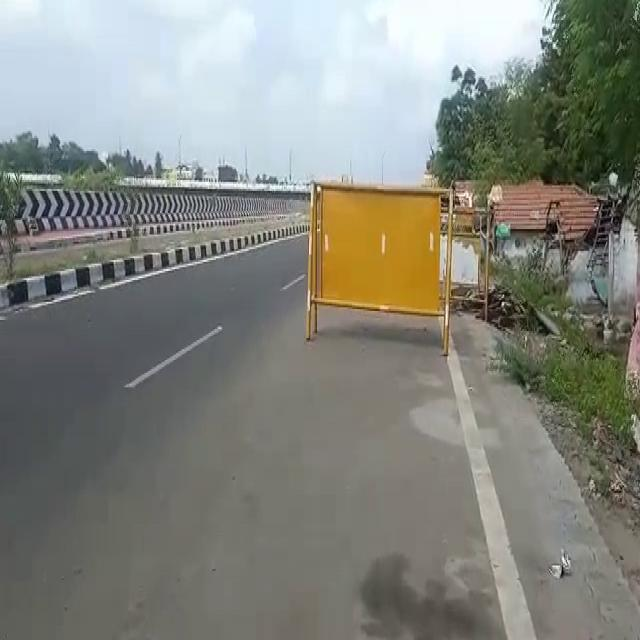fallen_object: (295, 147, 473, 375)
